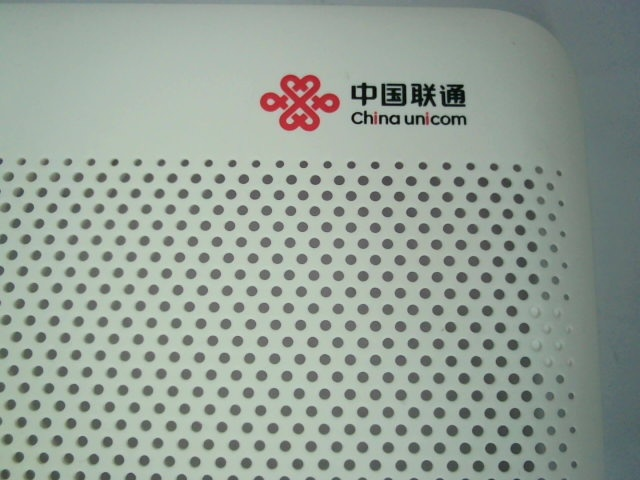AD_ChinaUnicom: (251, 60, 478, 141)
